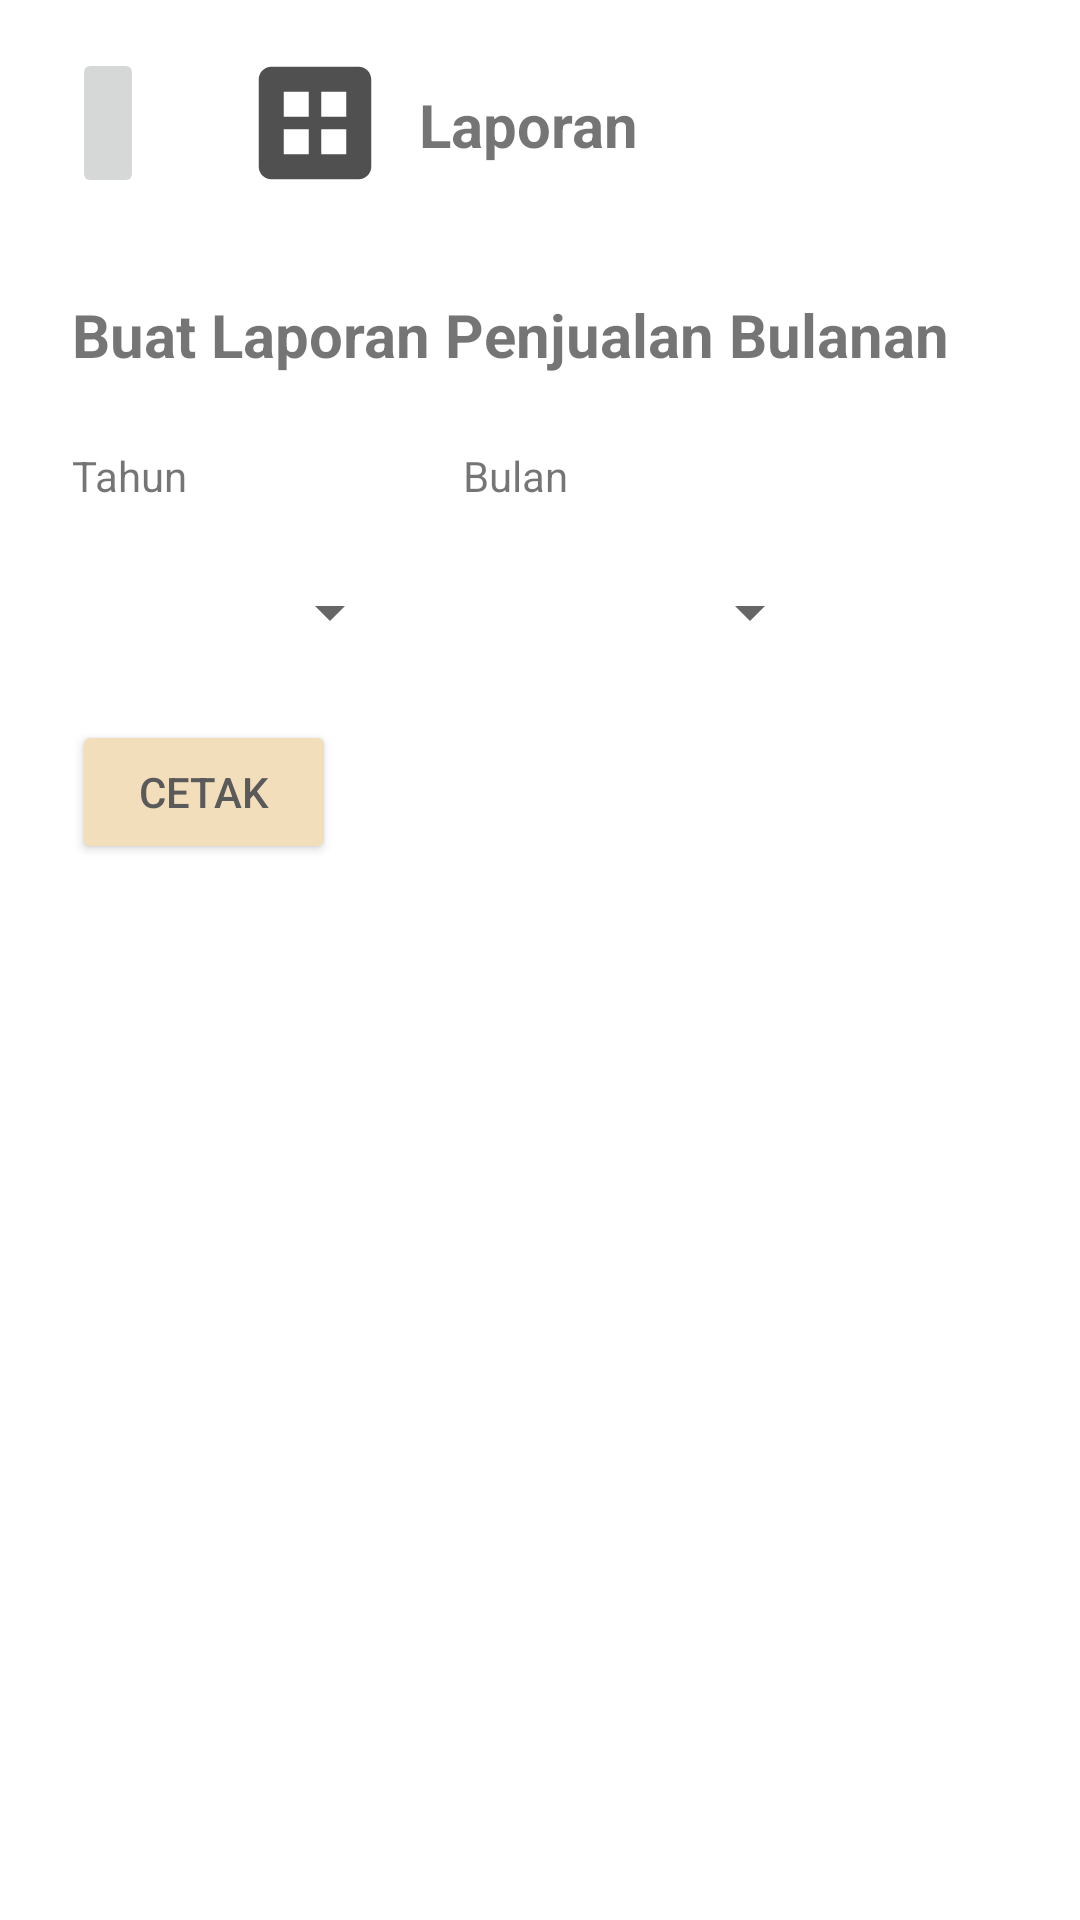

Icon click points for this 1080*1920 phone screenshot, format (x=x, y=y):
dataset: (x=315, y=123)
